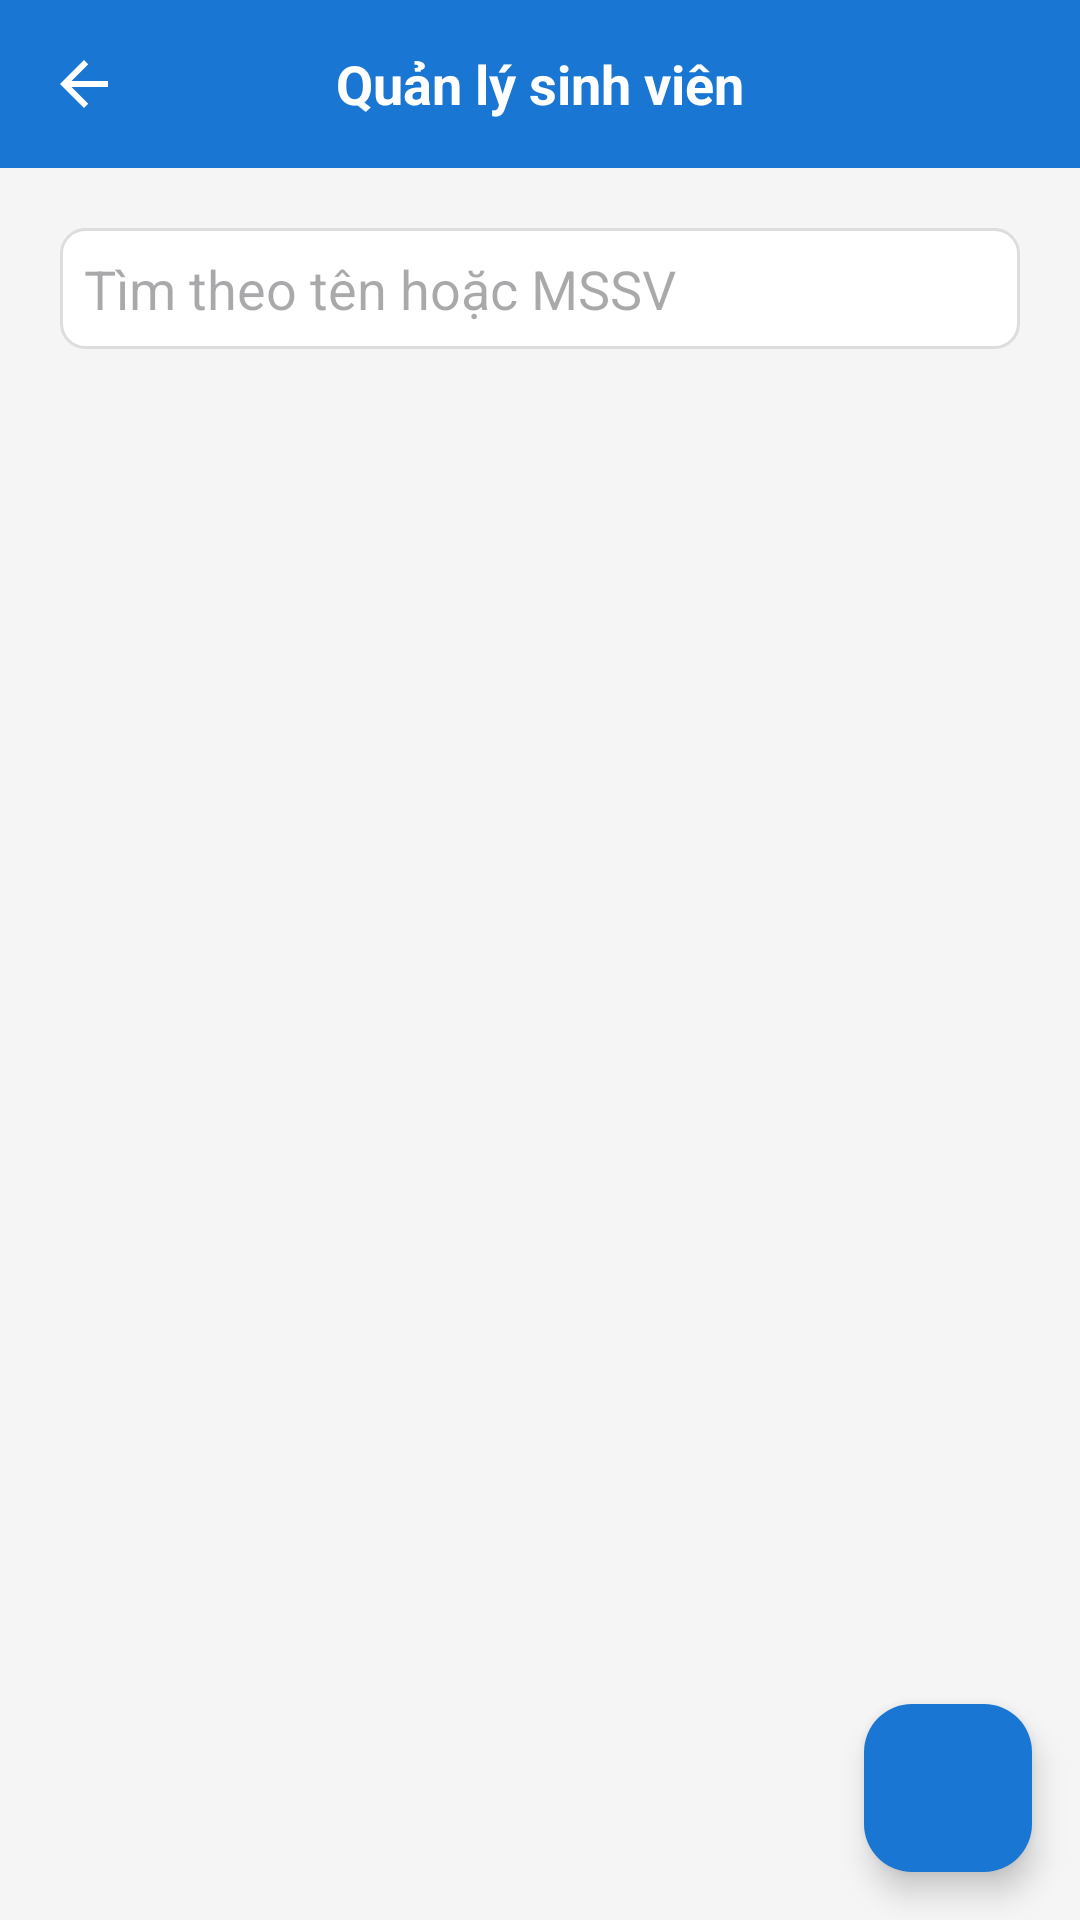

Named icons in this screenshot (1080×1920) and their bounding boxes, detection(x1, y1, x2, y2):
back: detection(60, 60, 108, 108)
